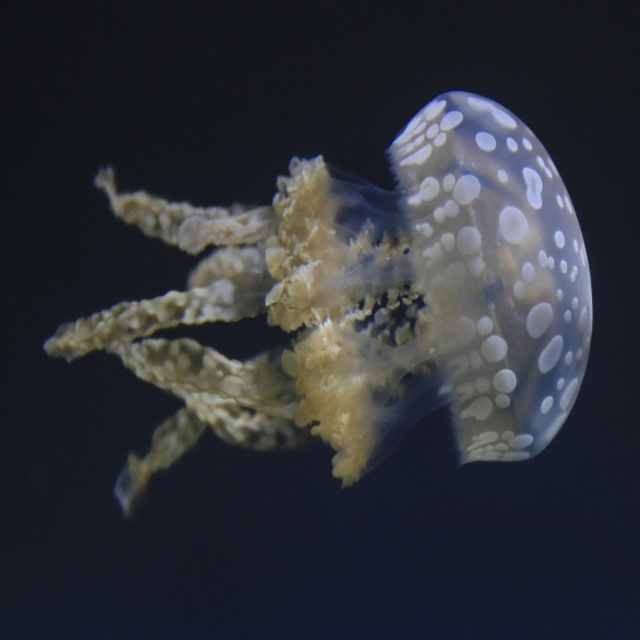Jellyfish: (62, 93, 592, 505)
